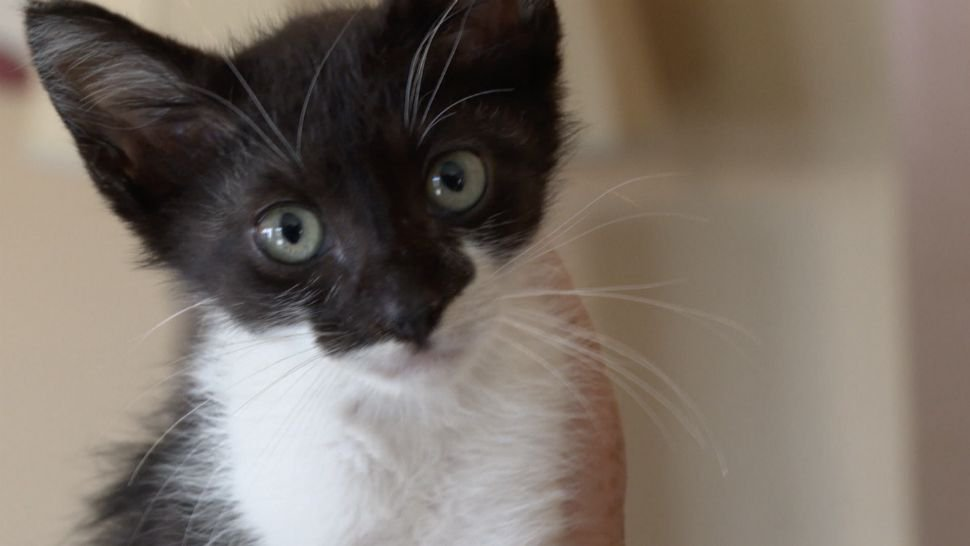cat: (32, 1, 666, 488)
